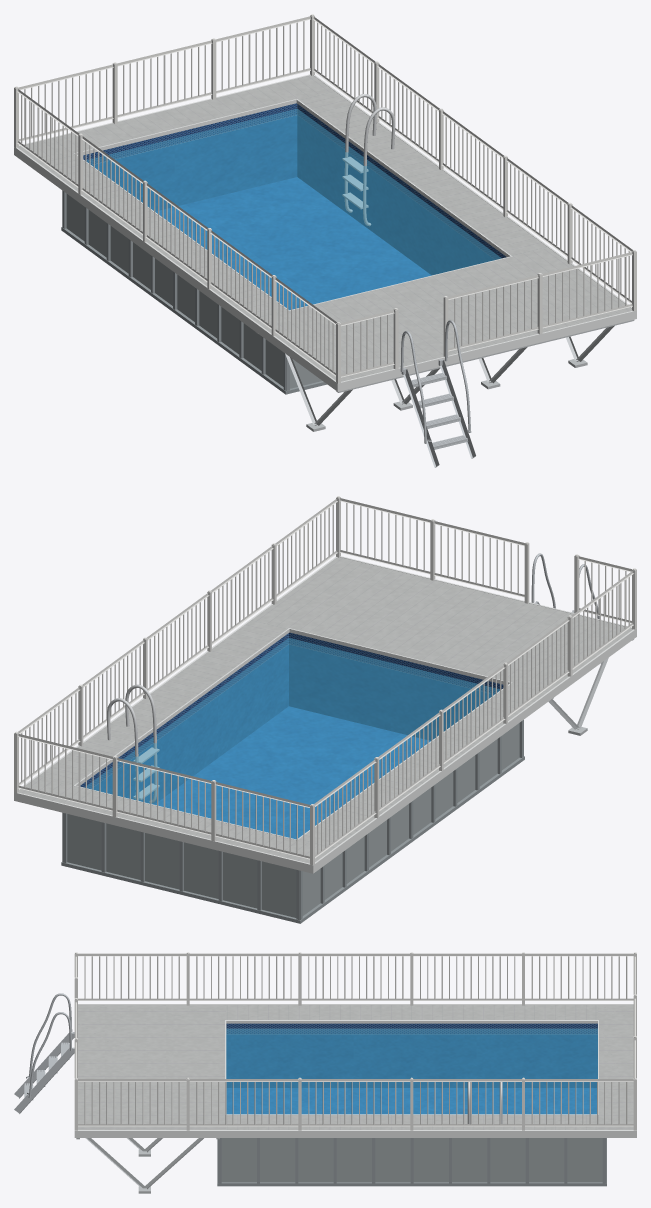
The model's file is kayak-pool-12x20-gray-end-ag-fence.6b955a7245.glb.
The picture shows the model from 3 angles, top to bottom: view 1: azimuth 30°, elevation 25°; view 2: azimuth 150°, elevation 25°; view 3: azimuth 270°, elevation 25°; orthographic projection. The views are drawn at different scales.
Visible parts, largest first — view 1: water, deck, fence, liner_wall, liner_floor, fascia, wall, upright, ladder, stud, steel; view 2: deck, water, fence, liner_wall, wall, liner_floor, fascia, upright, steel, stud; view 3: deck, water, liner_wall, fence, wall, liner_floor, fascia, upright, ladder, stud.
Part boxes in pixels (x1=…): water: x1=86, y1=109, x2=501, y2=309; deck: x1=18, y1=75, x2=632, y2=381; fence: x1=14, y1=14, x2=636, y2=383; liner_wall: x1=83, y1=103, x2=506, y2=275; liner_floor: x1=156, y1=177, x2=431, y2=309; fascia: x1=14, y1=74, x2=636, y2=391; wall: x1=66, y1=194, x2=322, y2=388; upright: x1=61, y1=190, x2=327, y2=394; ladder: x1=400, y1=320, x2=475, y2=467; stud: x1=255, y1=320, x2=634, y2=431; steel: x1=342, y1=93, x2=395, y2=226; deck: x1=18, y1=557, x2=632, y2=863; water: x1=84, y1=638, x2=499, y2=838; fence: x1=14, y1=496, x2=636, y2=865; liner_wall: x1=80, y1=632, x2=503, y2=804; wall: x1=67, y1=723, x2=519, y2=917; liner_floor: x1=155, y1=706, x2=430, y2=838; fascia: x1=14, y1=556, x2=636, y2=873; upright: x1=61, y1=720, x2=524, y2=923; steel: x1=106, y1=684, x2=159, y2=802; stud: x1=548, y1=639, x2=633, y2=735; deck: x1=78, y1=1005, x2=633, y2=1129; water: x1=226, y1=1028, x2=597, y2=1114; liner_wall: x1=226, y1=1023, x2=597, y2=1087; fence: x1=74, y1=952, x2=636, y2=1130; wall: x1=221, y1=1138, x2=602, y2=1182; liner_floor: x1=226, y1=1088, x2=596, y2=1114; fascia: x1=74, y1=1004, x2=636, y2=1137; upright: x1=217, y1=1138, x2=606, y2=1186; ladder: x1=14, y1=993, x2=74, y2=1113; stud: x1=76, y1=1138, x2=219, y2=1193.
Size of the model in its own units: 4.88 by 2.15 by 10.13.
Materials: 11 (3 with a texture image).
